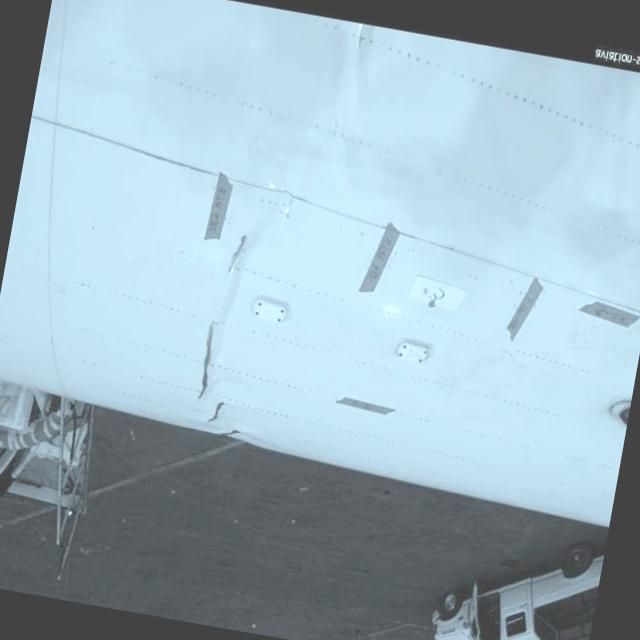crack: (190, 319, 222, 401), (203, 391, 229, 429)
